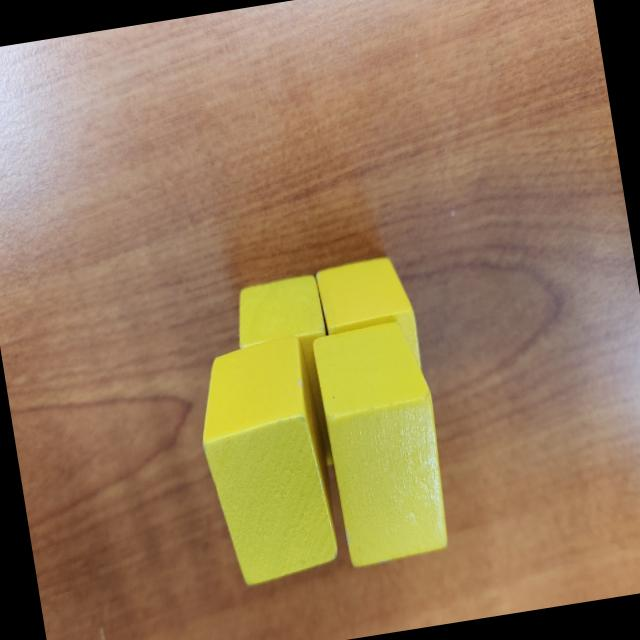yellow: (187, 334, 349, 594), (309, 318, 460, 572), (230, 274, 348, 481), (314, 255, 424, 390)
